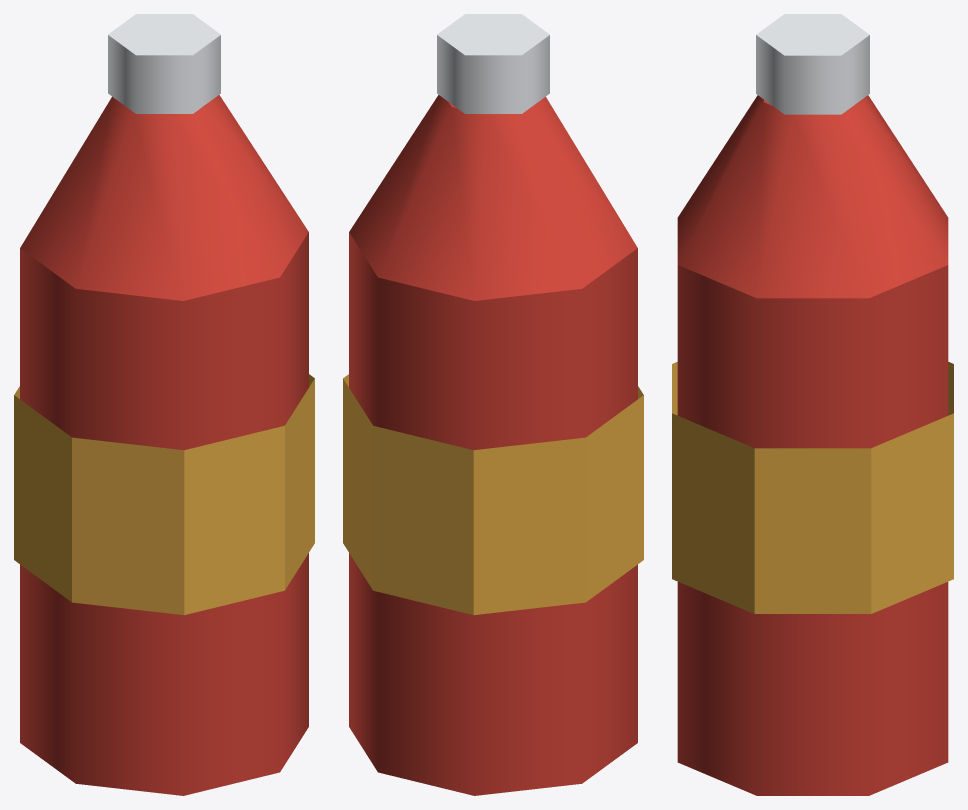
Rendered from CM_Product_SodaBottle.fbx.
3 views of the same model, side by side, from view 1: azimuth 30°, elevation 25°; view 2: azimuth 150°, elevation 25°; view 3: azimuth 270°, elevation 25° (orthographic).
Visible parts, largest first — view 1: SodaBottle; view 2: SodaBottle; view 3: SodaBottle.
Boxes of the visible parts, <box> form: SodaBottle: <box>14,14,314,795</box>; SodaBottle: <box>343,14,643,795</box>; SodaBottle: <box>672,14,953,795</box>.
Size of the model in its own units: 0.6929 by 0.6929 by 1.91.
Materials: 1 (1 with a texture image).
